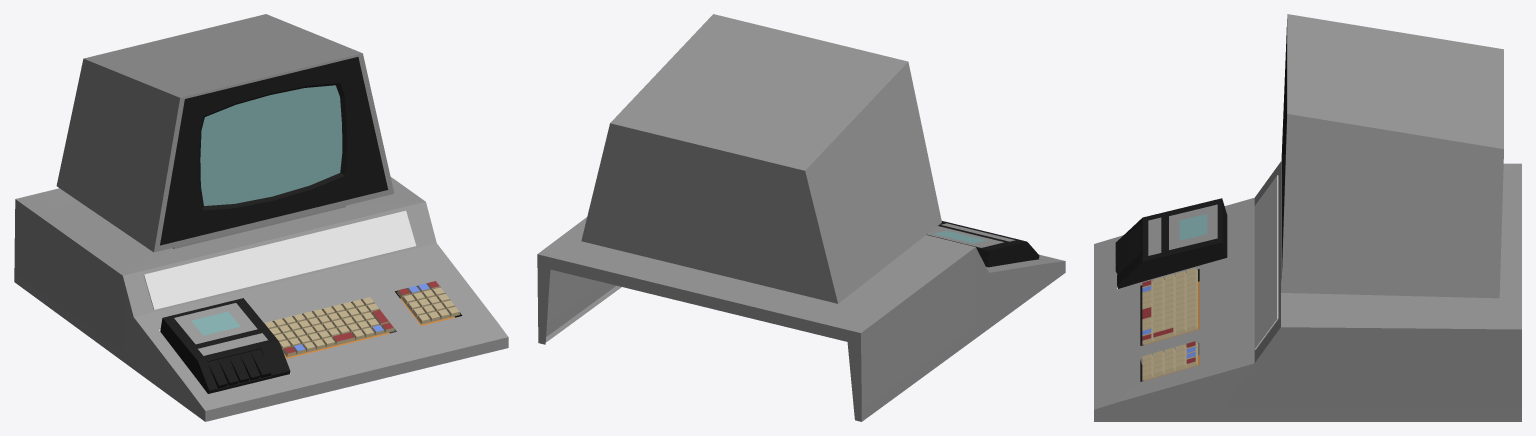
File: Commodore_Top.fbx
3 views of the same model, side by side, from view 1: azimuth 30°, elevation 25°; view 2: azimuth 150°, elevation 25°; view 3: azimuth 270°, elevation 25° (orthographic). The views are drawn at different scales.
Parts seen in each view (by area): view 1: Top; view 2: Top; view 3: Top.
Part boxes in pixels (x1,y1,x2,y2): Top: (14,14,508,421); Top: (537,14,1065,421); Top: (1094,14,1521,421).
Bounding box in the file's own units: 0.4409 × 0.3439 × 0.4798.
